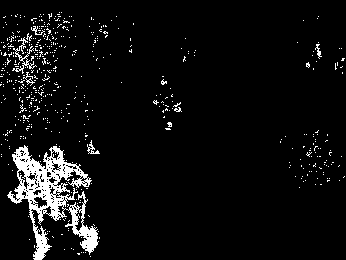person: (44, 145, 98, 252), (10, 145, 56, 259)
